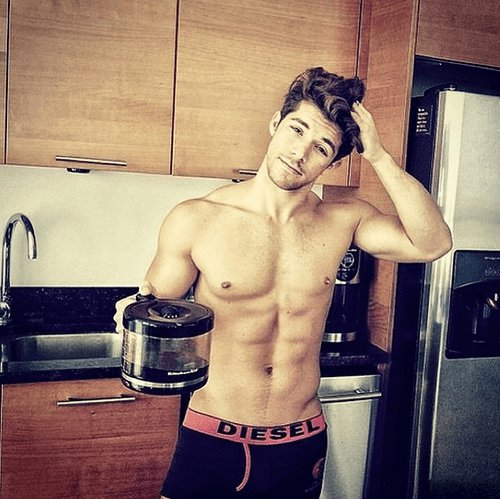noMask: (256, 64, 370, 208)
